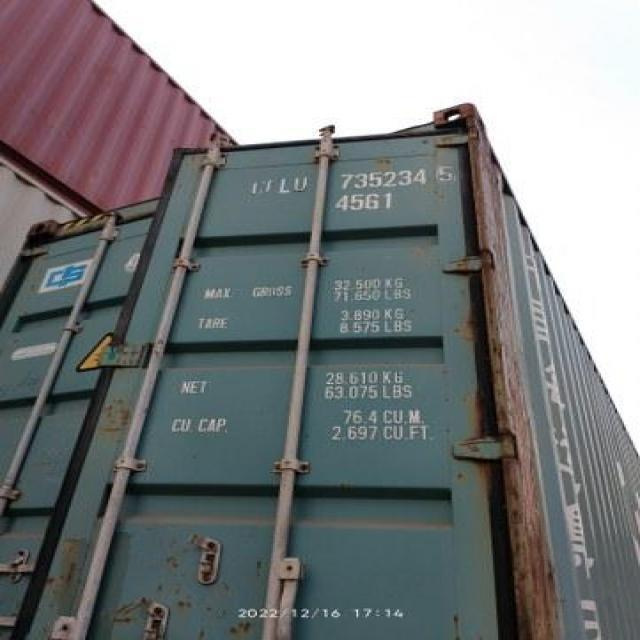container_number_h: (217, 163, 491, 231)
